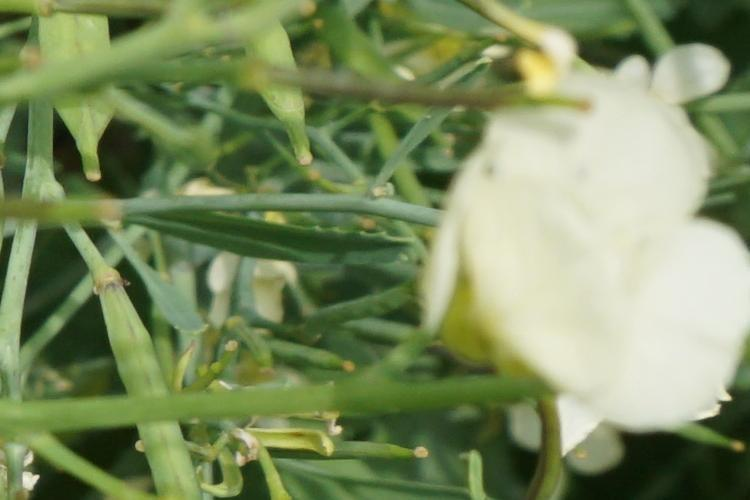pod: (44, 26, 140, 204), (238, 28, 330, 182), (278, 410, 449, 474), (220, 323, 353, 373)
